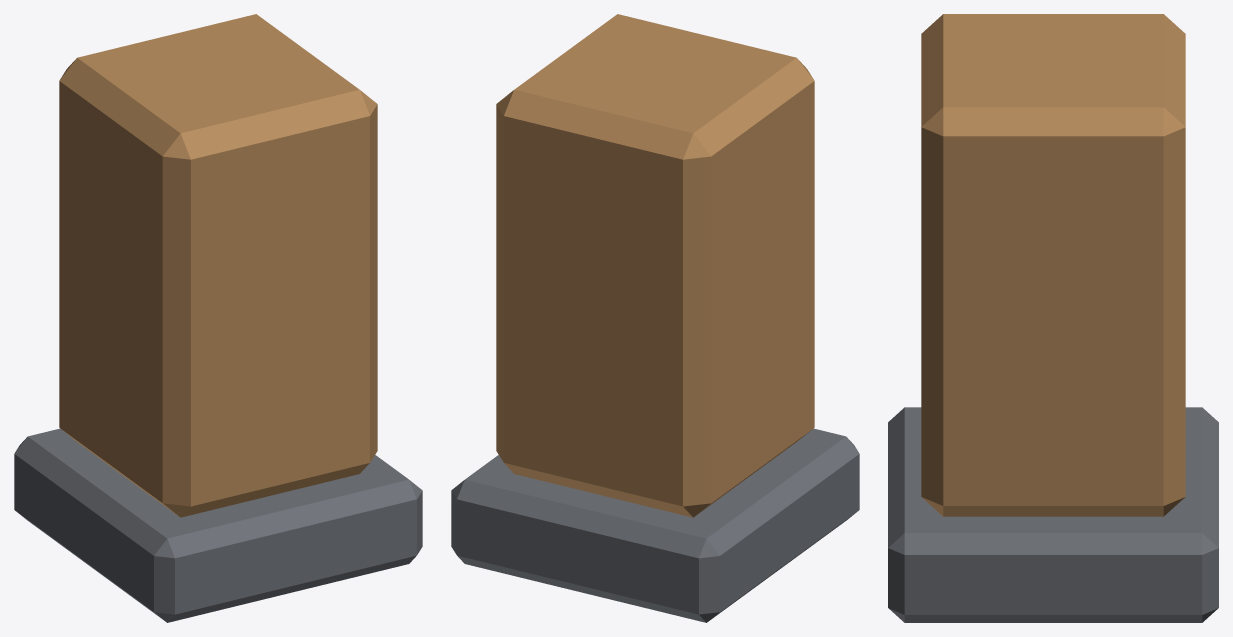
File: pilier_bois_bas.glb
3 views of the same model, side by side, from view 1: azimuth 30°, elevation 25°; view 2: azimuth 150°, elevation 25°; view 3: azimuth 270°, elevation 25° (orthographic). The views are drawn at different scales.
Parts seen in each view (by area): view 1: pilier_bois_bas_planche.002, pilier_bois_bas_moellon_sombre.002; view 2: pilier_bois_bas_planche.002, pilier_bois_bas_moellon_sombre.002; view 3: pilier_bois_bas_planche.002, pilier_bois_bas_moellon_sombre.002.
Boxes of the visible parts, x1,y1,x2,y2 form: pilier_bois_bas_planche.002: (59, 14, 377, 517); pilier_bois_bas_moellon_sombre.002: (14, 428, 422, 622); pilier_bois_bas_planche.002: (496, 14, 814, 517); pilier_bois_bas_moellon_sombre.002: (451, 428, 859, 622); pilier_bois_bas_planche.002: (921, 14, 1185, 516); pilier_bois_bas_moellon_sombre.002: (888, 407, 1218, 622).
Size of the model in its own units: 0.3 by 0.5 by 0.3.
